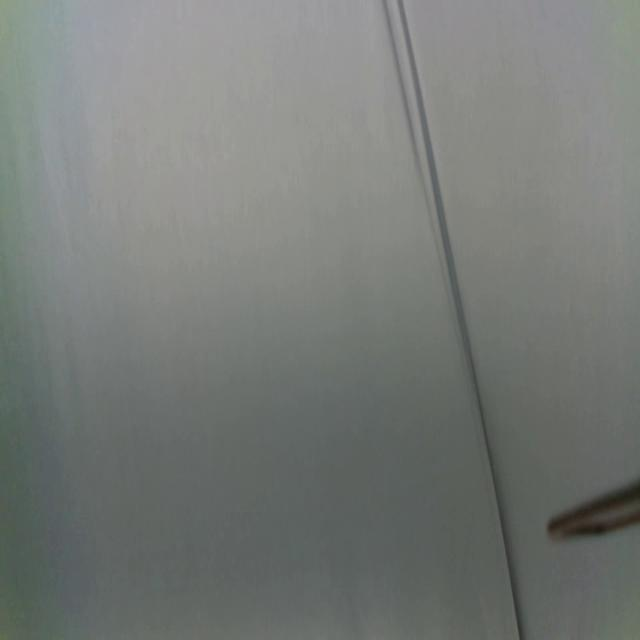crease: (386, 0, 524, 640)
